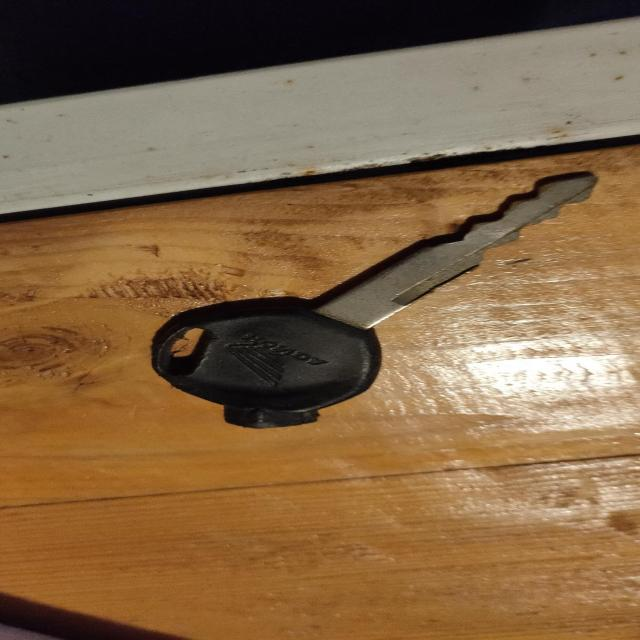kunci_motor: (138, 168, 610, 435)
